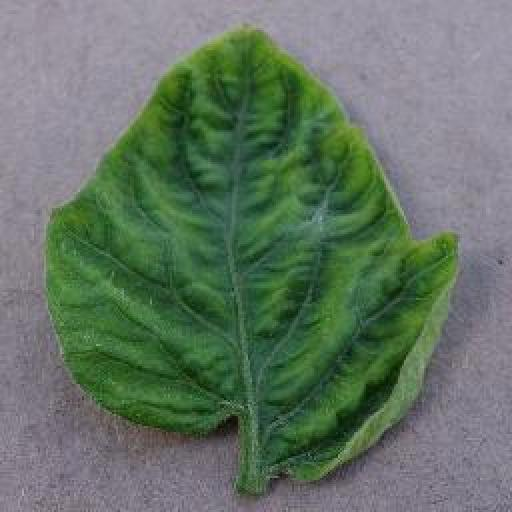disease_tomato: (45, 27, 464, 488)
